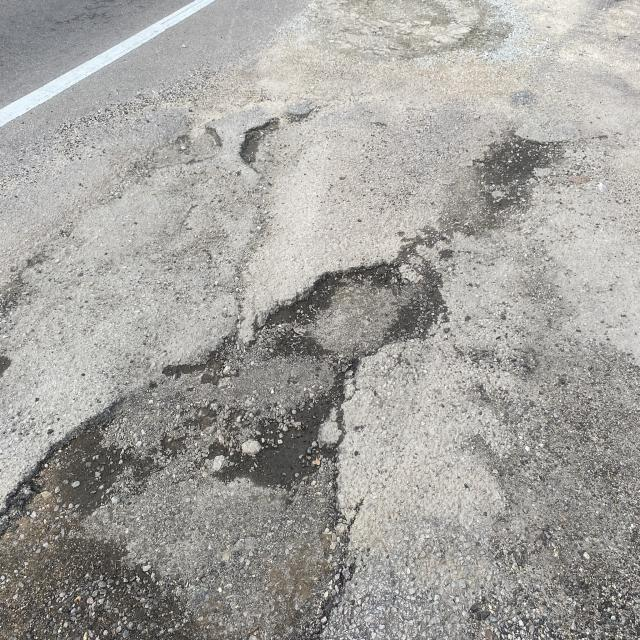Pothole: (208, 261, 444, 391), (210, 77, 331, 215)
